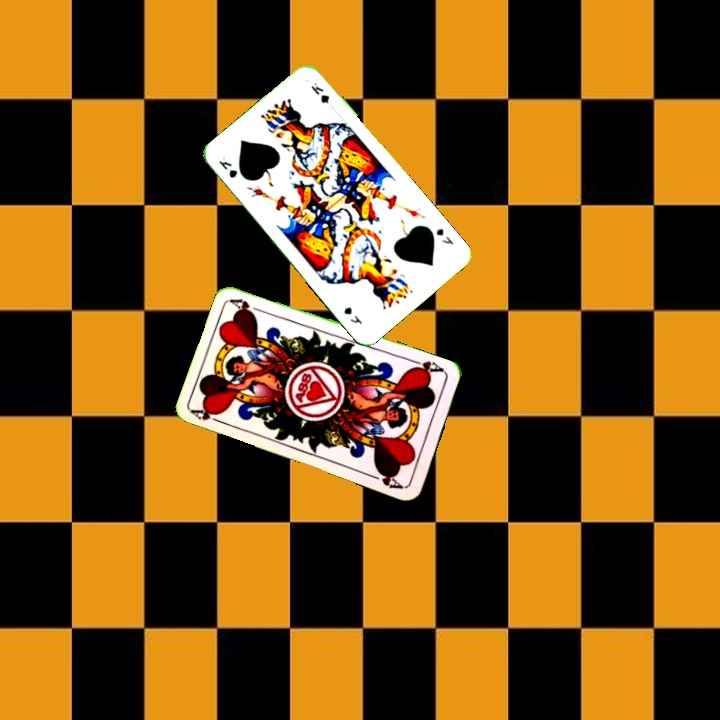GK: (215, 153, 240, 181), (432, 224, 456, 247)
HA: (188, 403, 228, 427), (406, 356, 447, 377)
